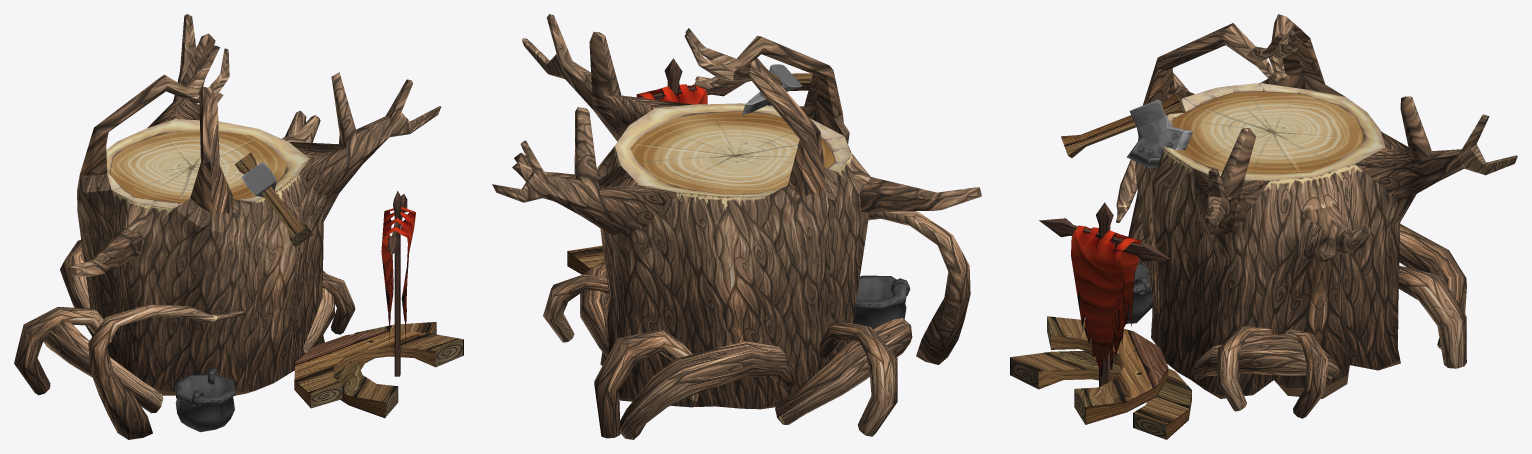
The model's file is Orc_Construction_Alchemist.FBX.
The picture shows the model from 3 angles, left to right: view 1: azimuth 30°, elevation 25°; view 2: azimuth 150°, elevation 25°; view 3: azimuth 270°, elevation 25°; orthographic projection. The views are drawn at different scales.
Parts seen in each view (by area): view 1: Trunk, roots, Shelfs, Cauldron003, Flag, Hanger, handle_axe001, axe001; view 2: Trunk, roots, Cauldron003, Flag, axe001, Shelfs, Hanger; view 3: Trunk, roots, Shelfs, Flag, axe001, Hanger, handle_axe001, Cauldron003.
Boxes of the visible parts, x1,y1,x2,y2 form: Trunk: (68, 14, 441, 395); roots: (14, 240, 355, 439); Shelfs: (294, 322, 463, 418); Cauldron003: (175, 368, 235, 432); Flag: (381, 206, 415, 341); Hanger: (388, 191, 407, 376); handle_axe001: (235, 152, 312, 247); axe001: (241, 162, 276, 197); Trunk: (492, 14, 981, 409); roots: (543, 211, 970, 439); Cauldron003: (854, 275, 910, 328); Flag: (636, 84, 707, 104); axe001: (742, 64, 802, 114); Shelfs: (567, 245, 603, 274); Hanger: (638, 58, 745, 99); Trunk: (1135, 14, 1517, 398); roots: (1116, 159, 1466, 418); Shelfs: (1010, 316, 1191, 439); Flag: (1071, 225, 1141, 376); axe001: (1126, 99, 1193, 167); Hanger: (1039, 202, 1171, 387); handle_axe001: (1061, 93, 1185, 157); Cauldron003: (1127, 263, 1152, 323).
Size of the model in its own units: 5063 by 3856 by 5138.
